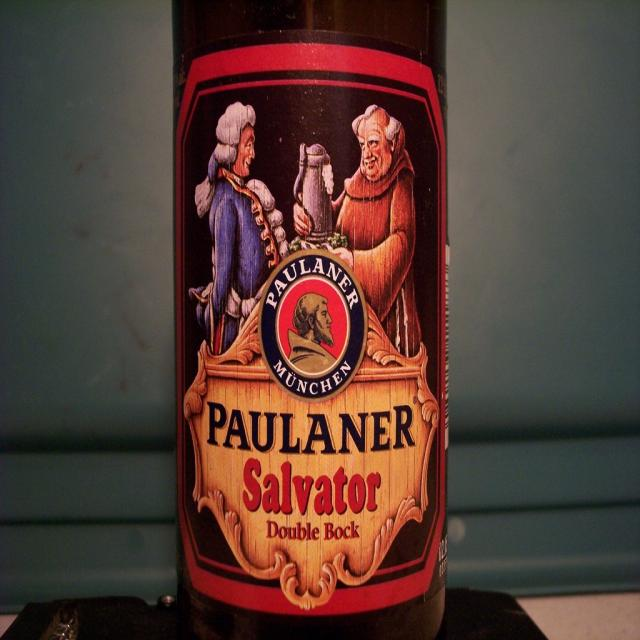paulaner: (259, 249, 372, 403)
